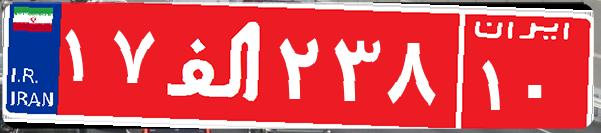0: (525, 38, 570, 115)
1: (57, 26, 110, 107), (475, 38, 525, 113)
2: (273, 28, 330, 110)
3: (330, 28, 385, 110)
7: (110, 28, 158, 105)
8: (385, 28, 445, 110)
الف: (158, 15, 273, 115)
